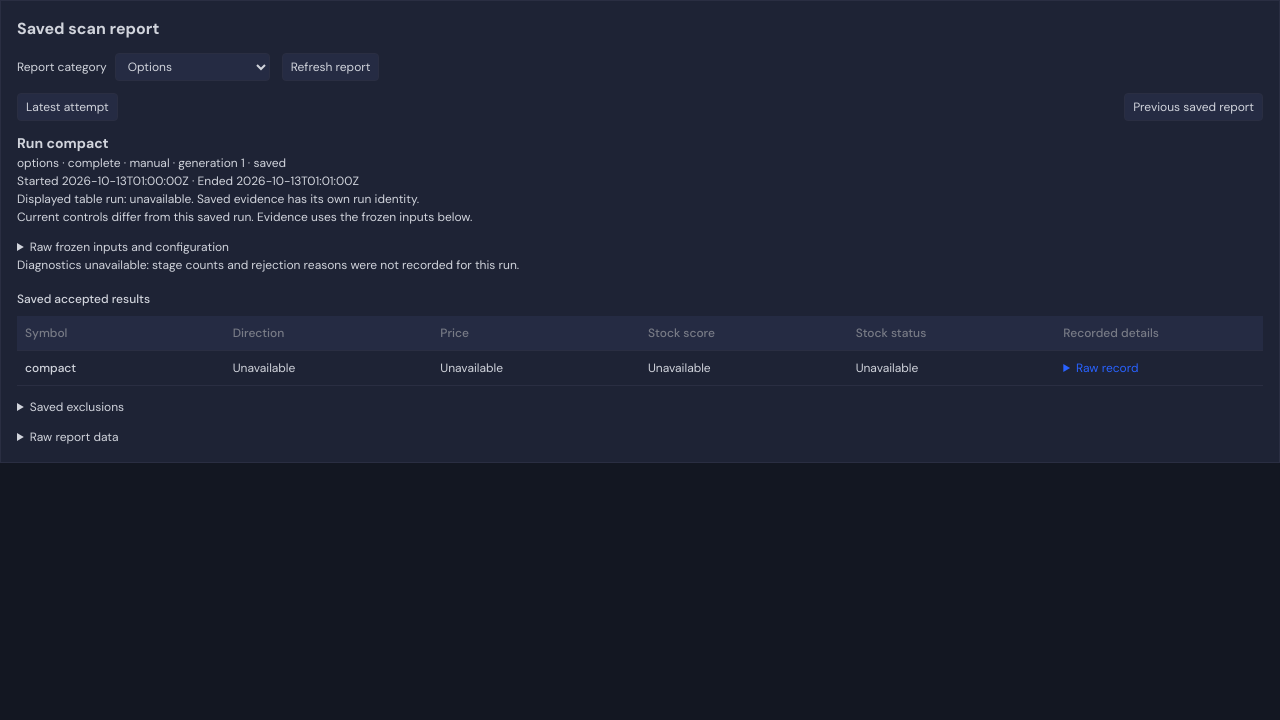
Test: raw report and exclusion data are collapsed, and opening a different run resets disclosure
Check: the heading "Run compact" is shown, box [17,134,109,152]
What coordinates should you click on to do the following:
click the heading "Raw report data"
I would click on:
 (74, 437)
Its box is [30,429,118,445].
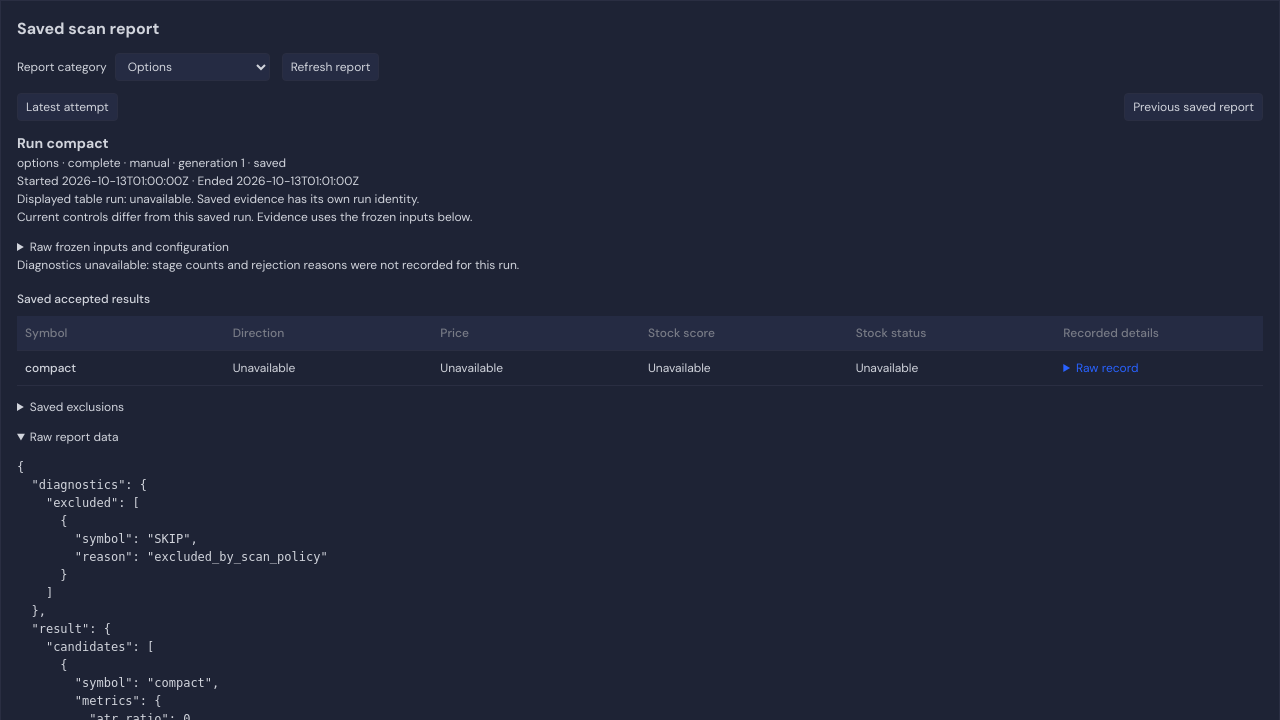
What coordinates should you click on to do the following:
click the button "Previous saved report"
I would click on:
 (1194, 107)
Its box is [1124,93,1263,121].
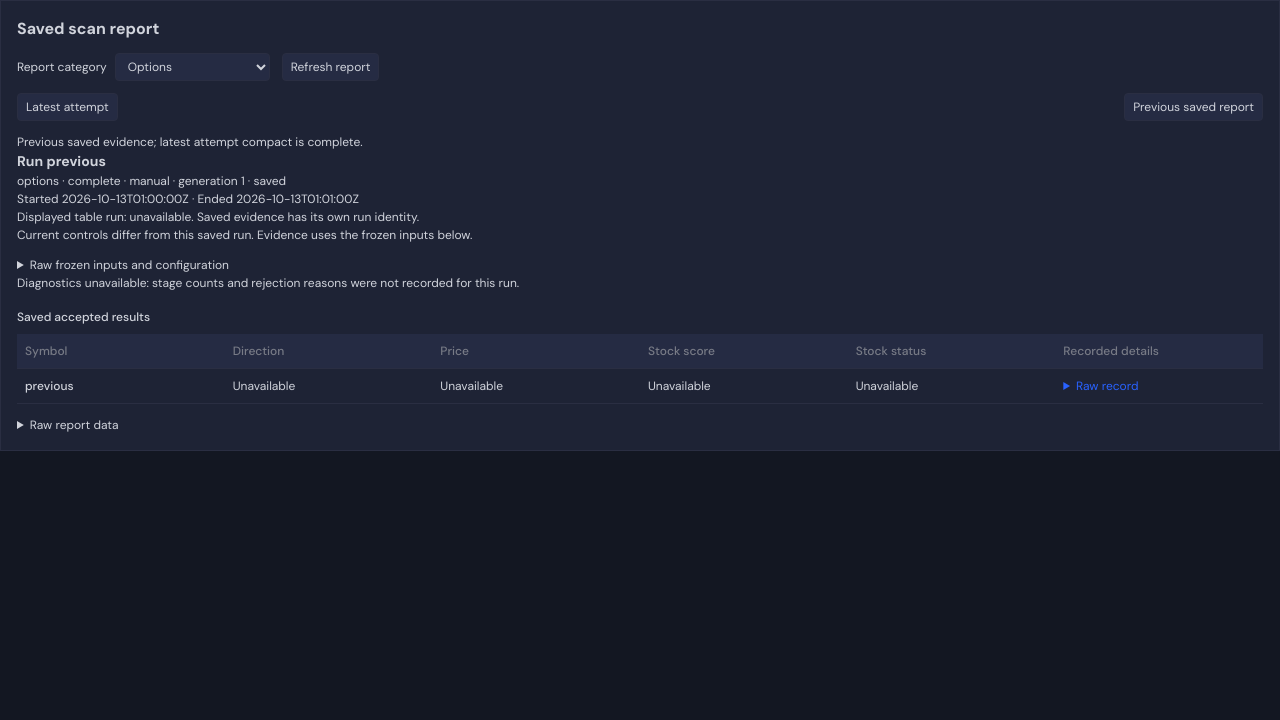
Check: the heading "Run previous" is shown, box [17,152,106,170]
